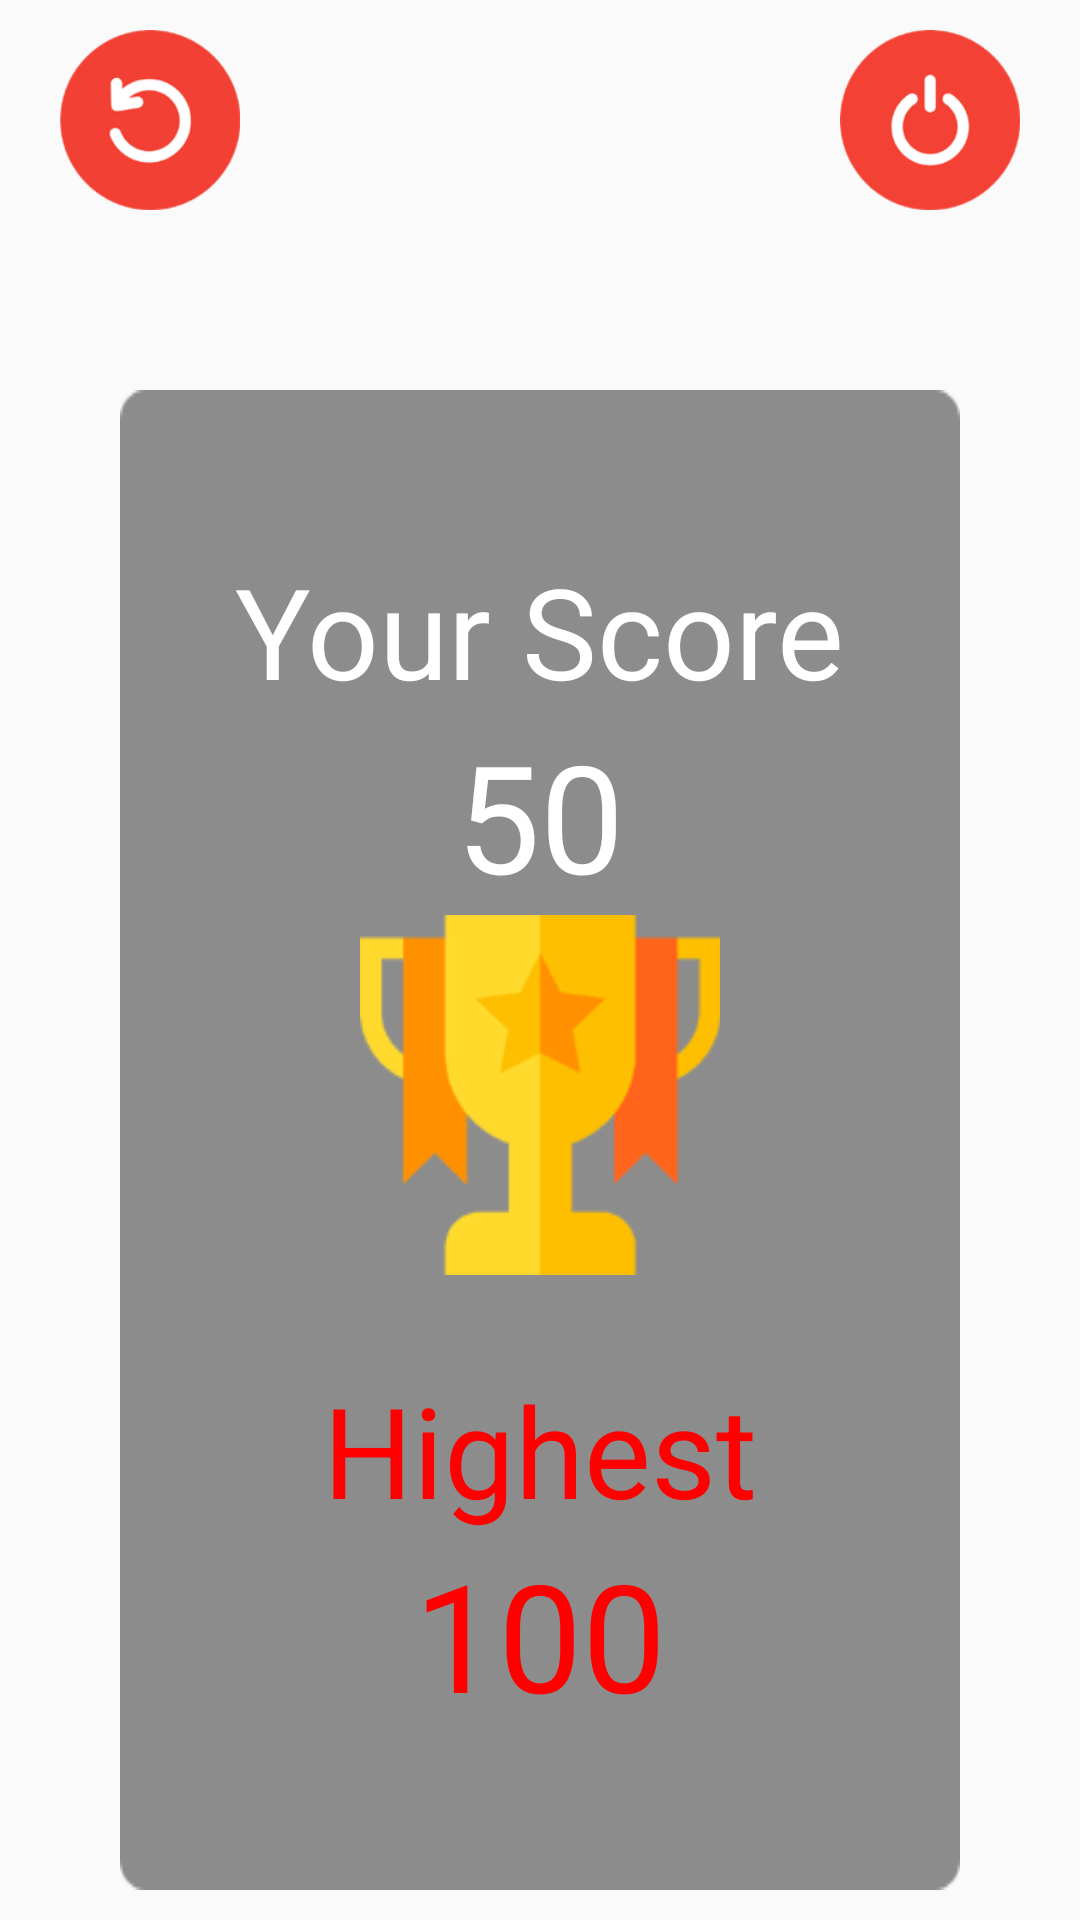

Icon click points for this 1080×1920 phone screenshot, format (x,y):
award: (540,1095)
close: (930,120)
restart: (150,120)
